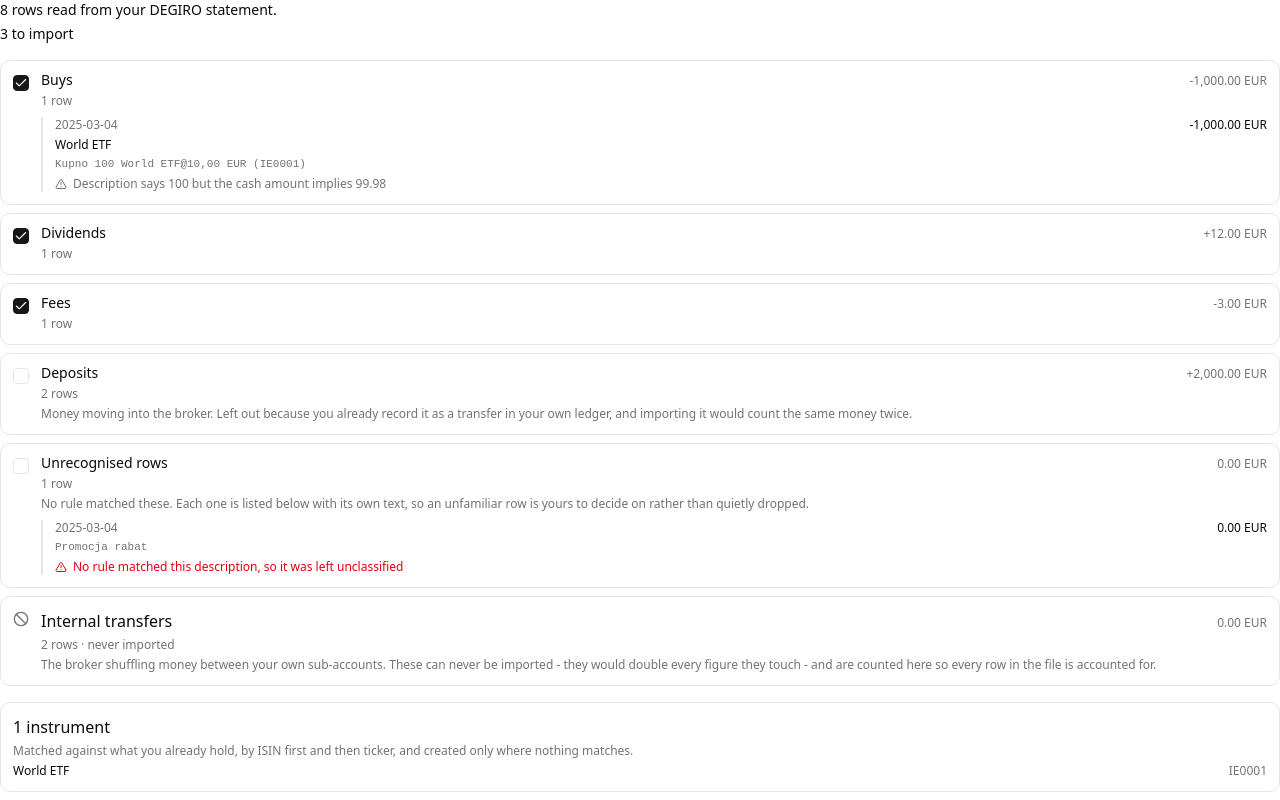
Test: ImportPreview reconciliation › does not point at the deposits when including them would not help
The image size is (1280, 800).
Click the checkbox named "Unrecognised rows" next to "Unrecognised rows": click(21, 466) [13,458,29,474]
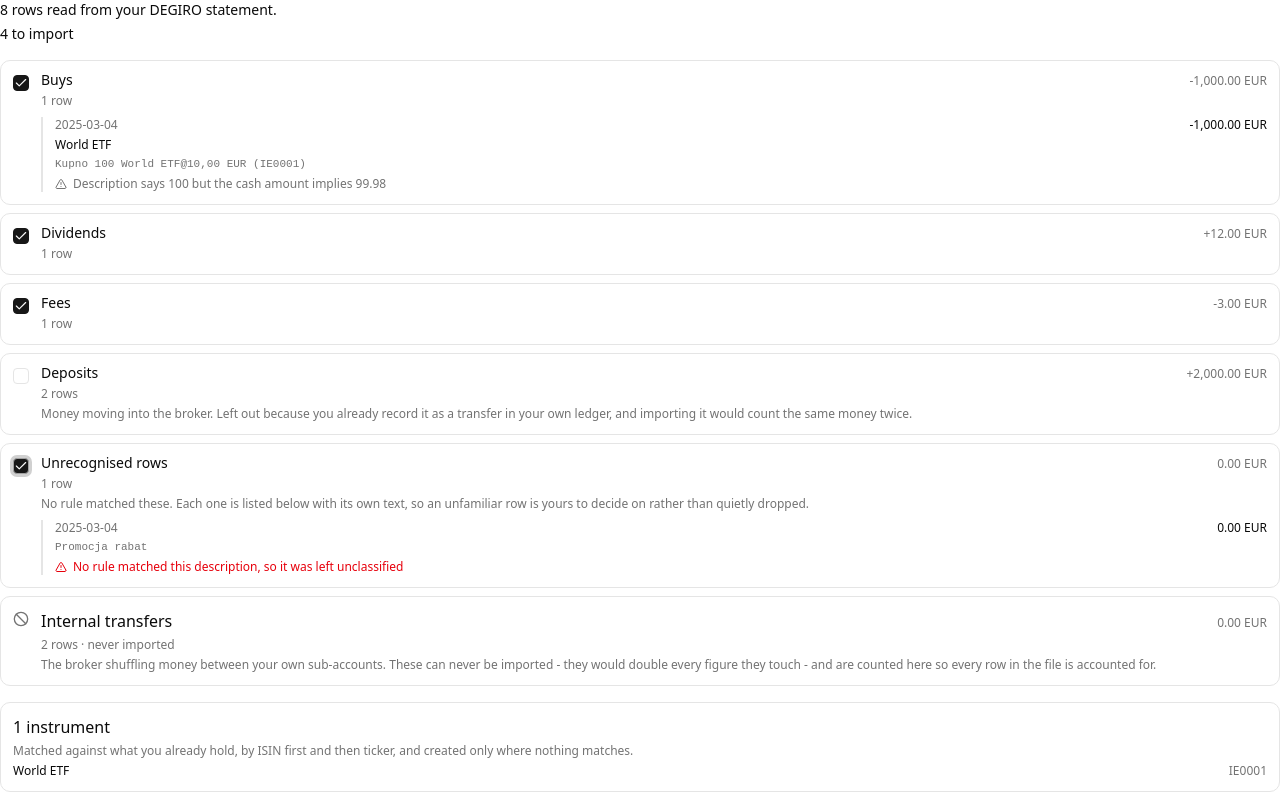
Click the checkbox named "Dividends" next to "Dividends": click(21, 236) [13,228,29,244]
(page scrolled)
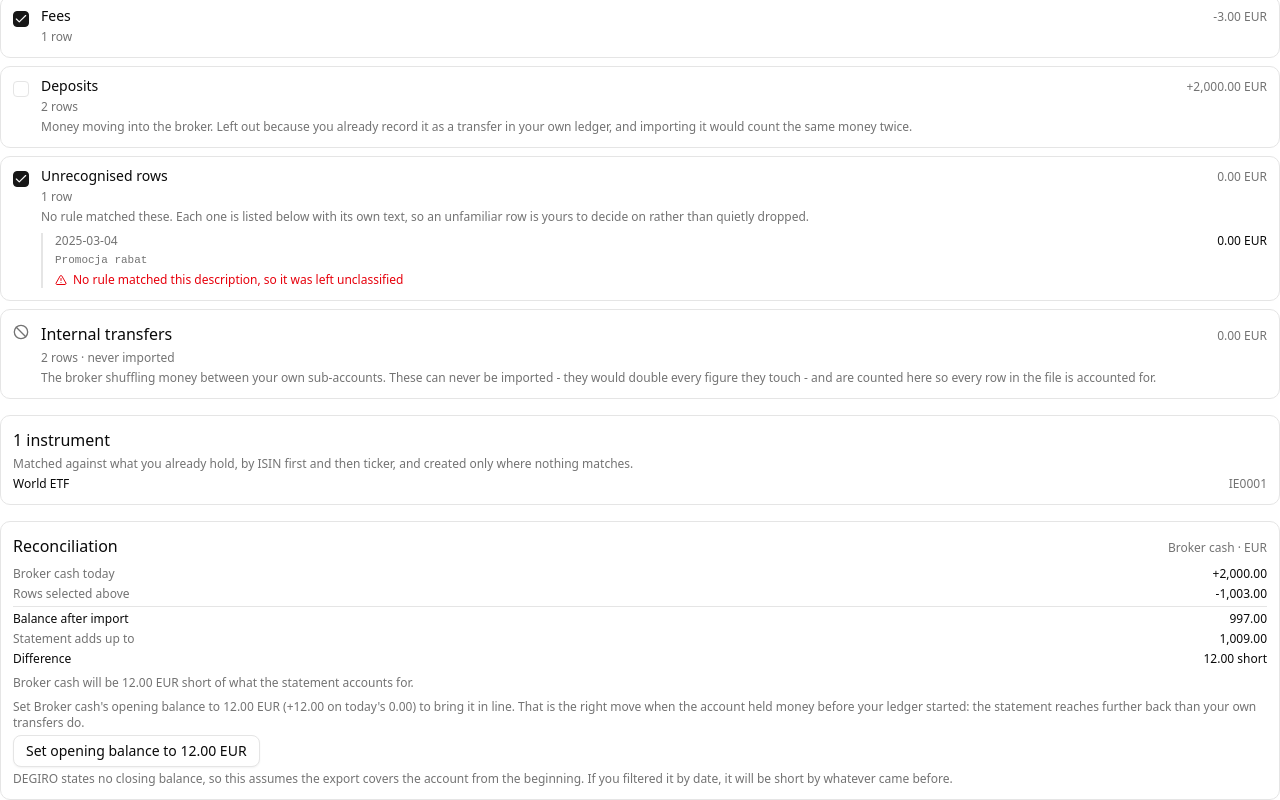
Check: the text "12.00 short" is shown, box [1204,651,1267,667]
Check: the button "Set opening balance to 12.00 EUR" is shown, box [13,735,260,767]
